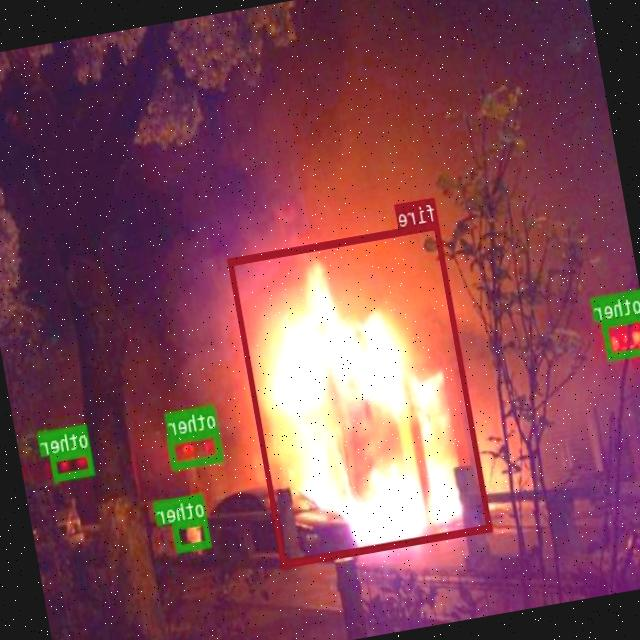fire: (228, 220, 494, 566)
